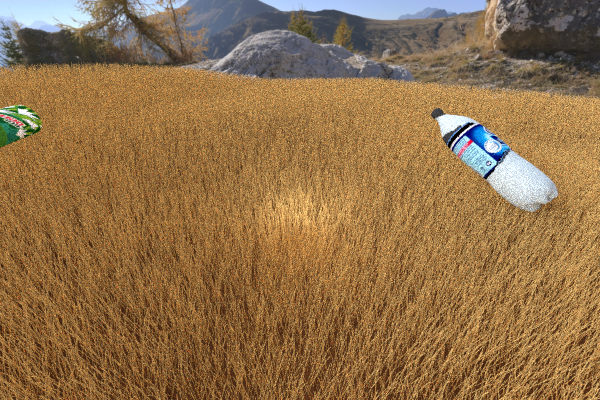bottle: (430, 107, 558, 212)
can: (0, 104, 41, 148)
